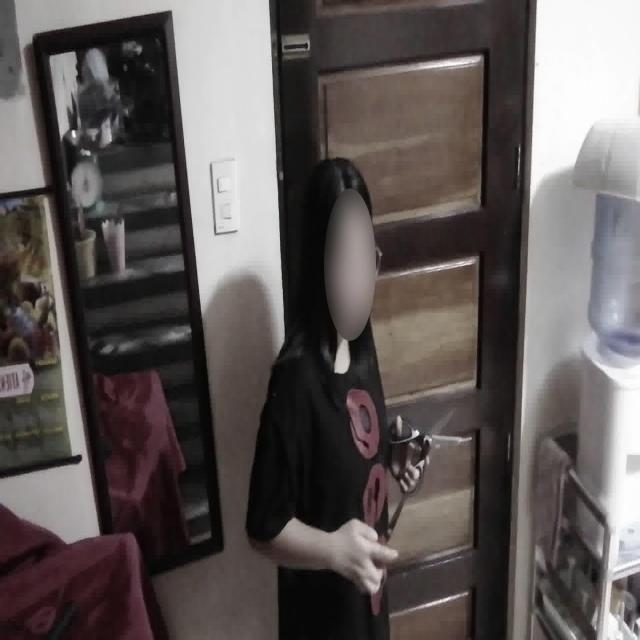scissor: (387, 407, 473, 497), (364, 487, 406, 587)
